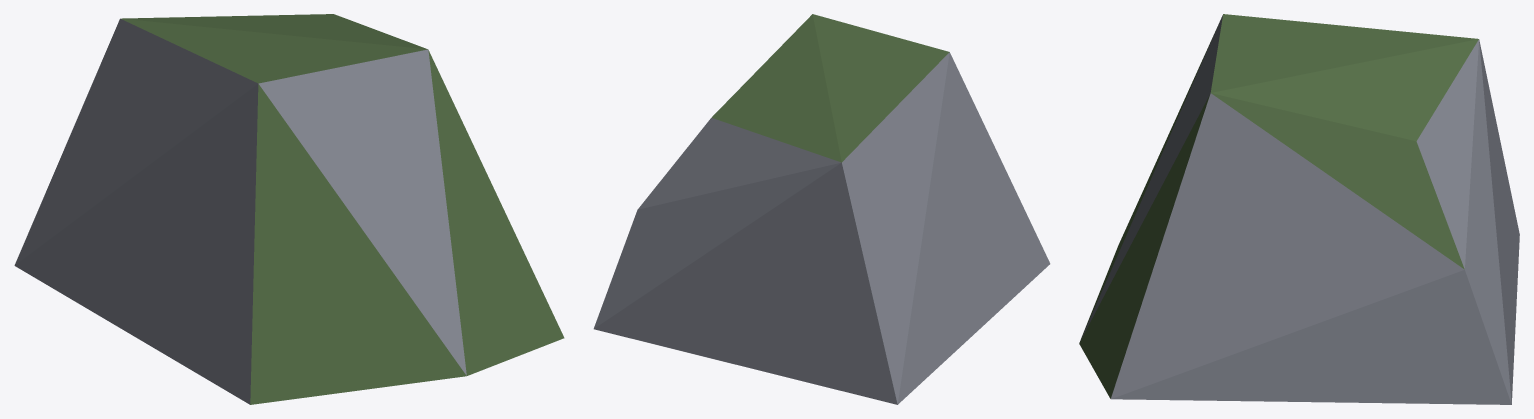
File: Rock_Moss_3.lod2.glb
3 renders of one model, left to right at view 1: azimuth 30°, elevation 25°; view 2: azimuth 150°, elevation 25°; view 3: azimuth 270°, elevation 25°, orthographic. The views are drawn at different scales.
Visible parts, largest first — view 1: Rock_Moss_3; view 2: Rock_Moss_3; view 3: Rock_Moss_3.
Boxes of the visible parts, <box> form: Rock_Moss_3: <box>14,14,564,404</box>; Rock_Moss_3: <box>593,14,1050,404</box>; Rock_Moss_3: <box>1079,14,1519,404</box>.
Size of the model in its own units: 0.7377 by 0.5459 by 0.8172.
